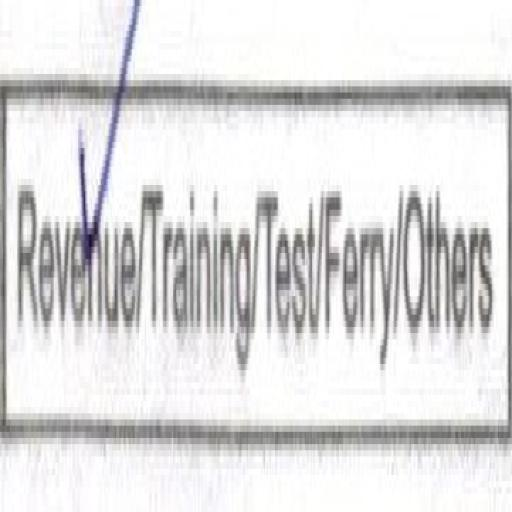check: (1, 0, 140, 455)
